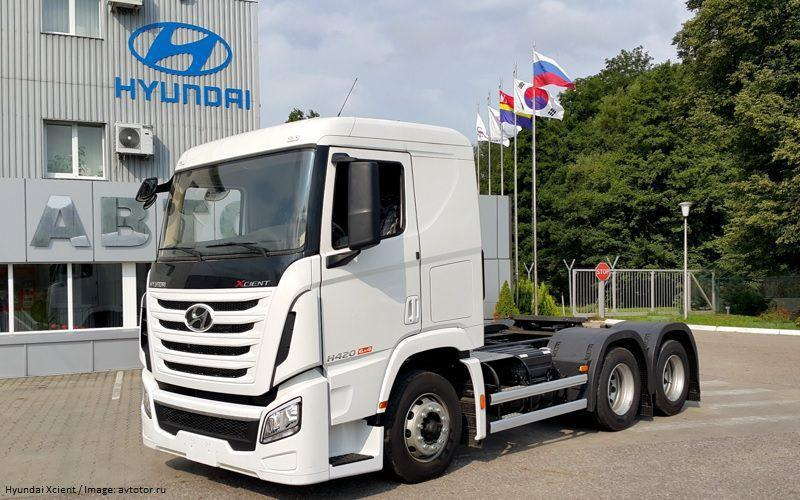truck: (139, 118, 702, 490)
